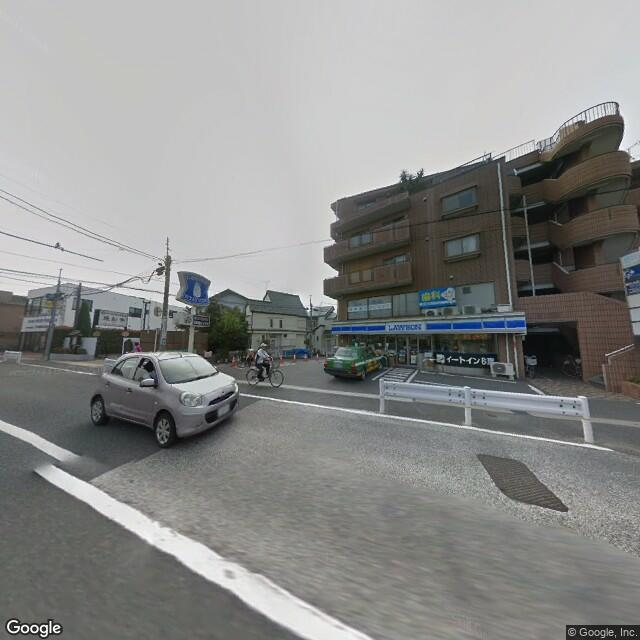lawson: (328, 310, 527, 338), (182, 267, 211, 307)
